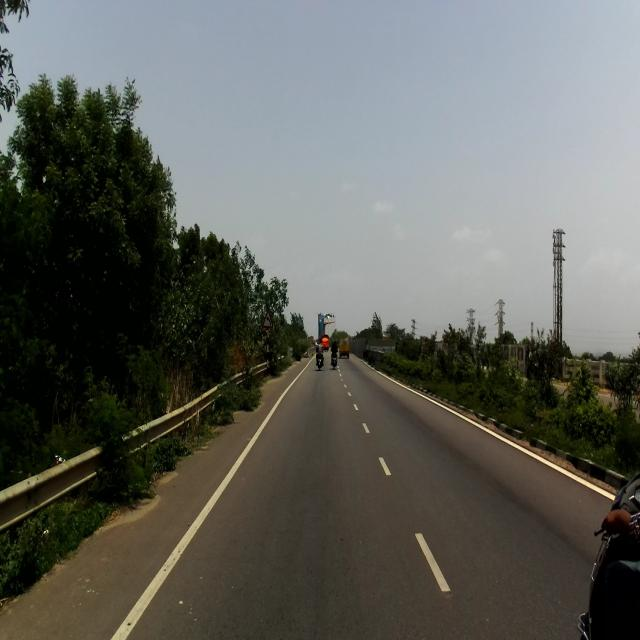scooter: (575, 475, 639, 639)
